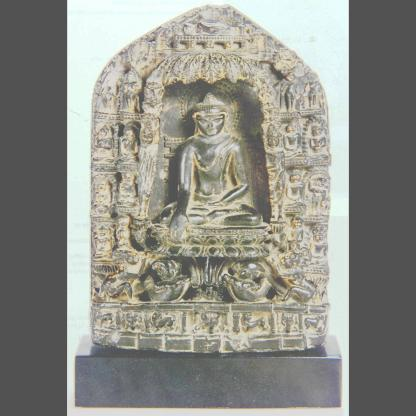buddha-sitting: (144, 84, 275, 298)
